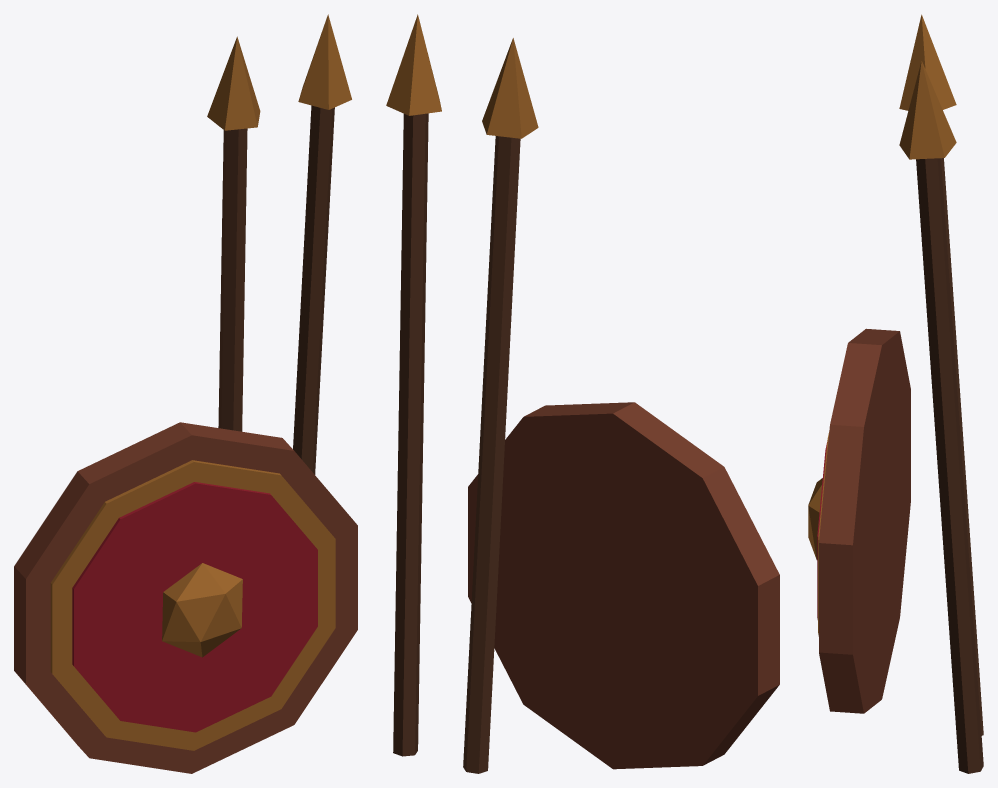
The model's file is battle_spear_shield_rack_LOD2.glb.
3 views of the same model, side by side, from view 1: azimuth 30°, elevation 25°; view 2: azimuth 150°, elevation 25°; view 3: azimuth 270°, elevation 25° (orthographic). The views are drawn at different scales.
Visible parts, largest first — view 1: battle_spear_shield_rack_LOD2; view 2: battle_spear_shield_rack_LOD2; view 3: battle_spear_shield_rack_LOD2.
Part boxes in pixels (x1,y1,x2,y2): battle_spear_shield_rack_LOD2: (14, 14, 357, 773); battle_spear_shield_rack_LOD2: (386, 14, 779, 773); battle_spear_shield_rack_LOD2: (808, 14, 983, 773).
Bounding box in the file's own units: 1.44 × 2.78 × 0.6107.
